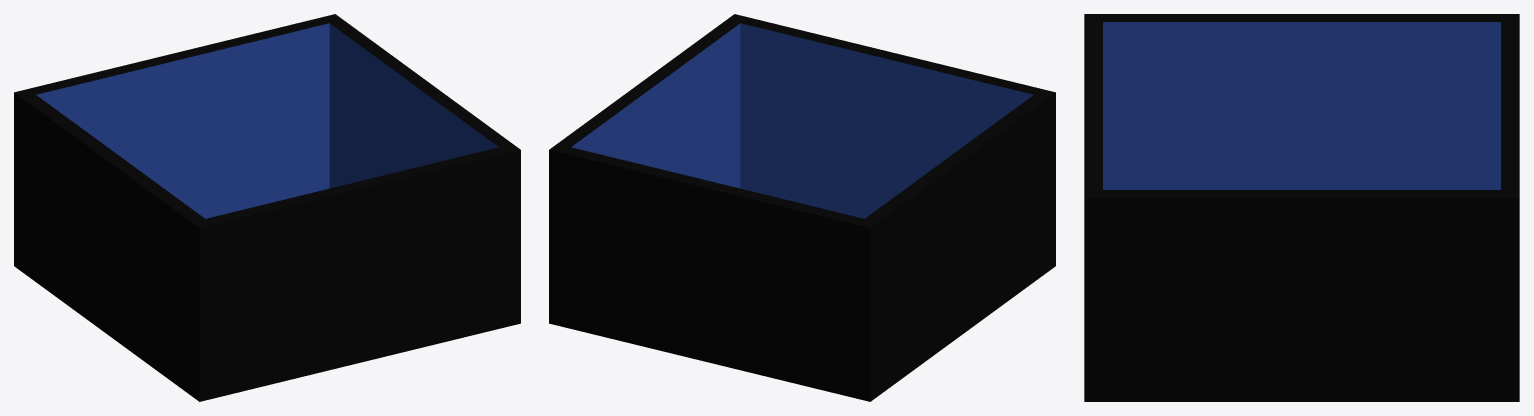
File: Theme01_WallandFloor.fbx
3 views of the same model, side by side, from view 1: azimuth 30°, elevation 25°; view 2: azimuth 150°, elevation 25°; view 3: azimuth 270°, elevation 25° (orthographic). The views are drawn at different scales.
Parts seen in each view (by area): view 1: theme01_wallandfloor_; view 2: theme01_wallandfloor_; view 3: theme01_wallandfloor_.
Part boxes in pixels (<box>): theme01_wallandfloor_: <box>14,14,520,401</box>; theme01_wallandfloor_: <box>549,14,1055,401</box>; theme01_wallandfloor_: <box>1084,14,1519,401</box>.
Size of the model in its own units: 2320 by 1200 by 2320.
2 materials, 1 textured.
